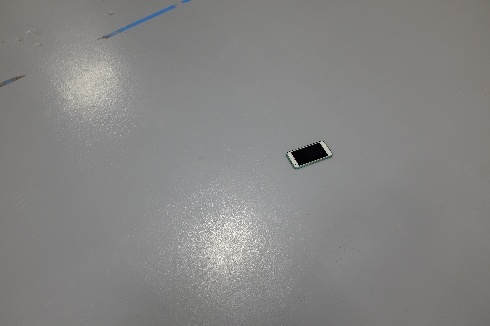phone: (282, 138, 331, 170)
